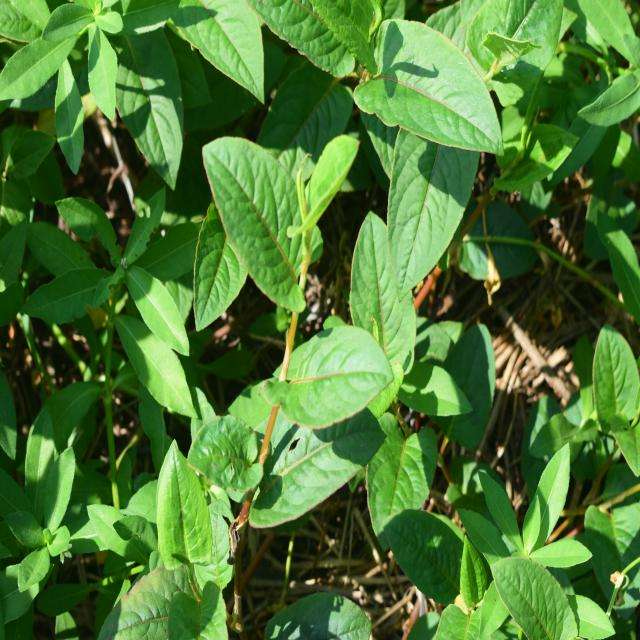Chinese_knotweed: (189, 110, 469, 500), (254, 0, 496, 192)
